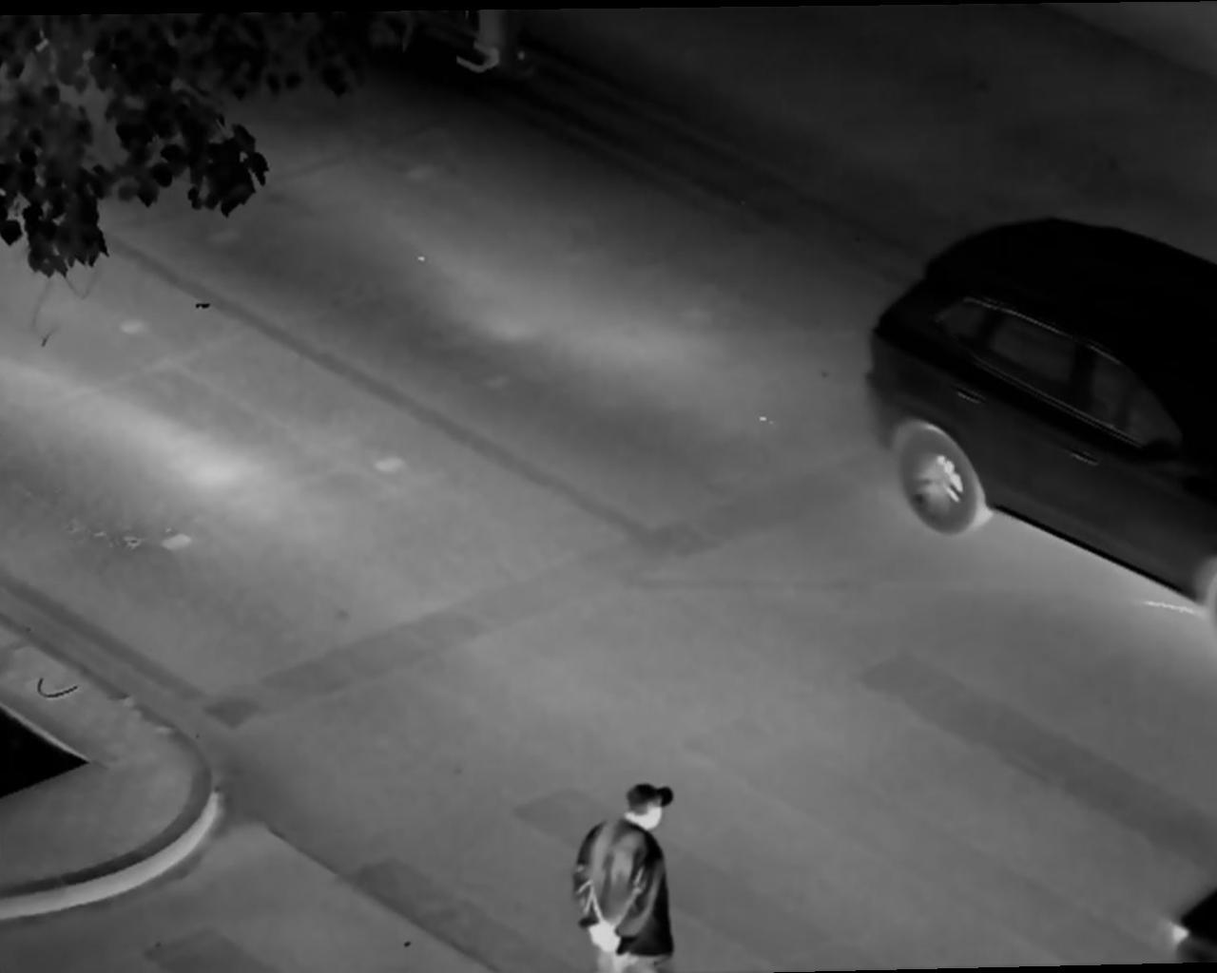person: (570, 773, 686, 973)
